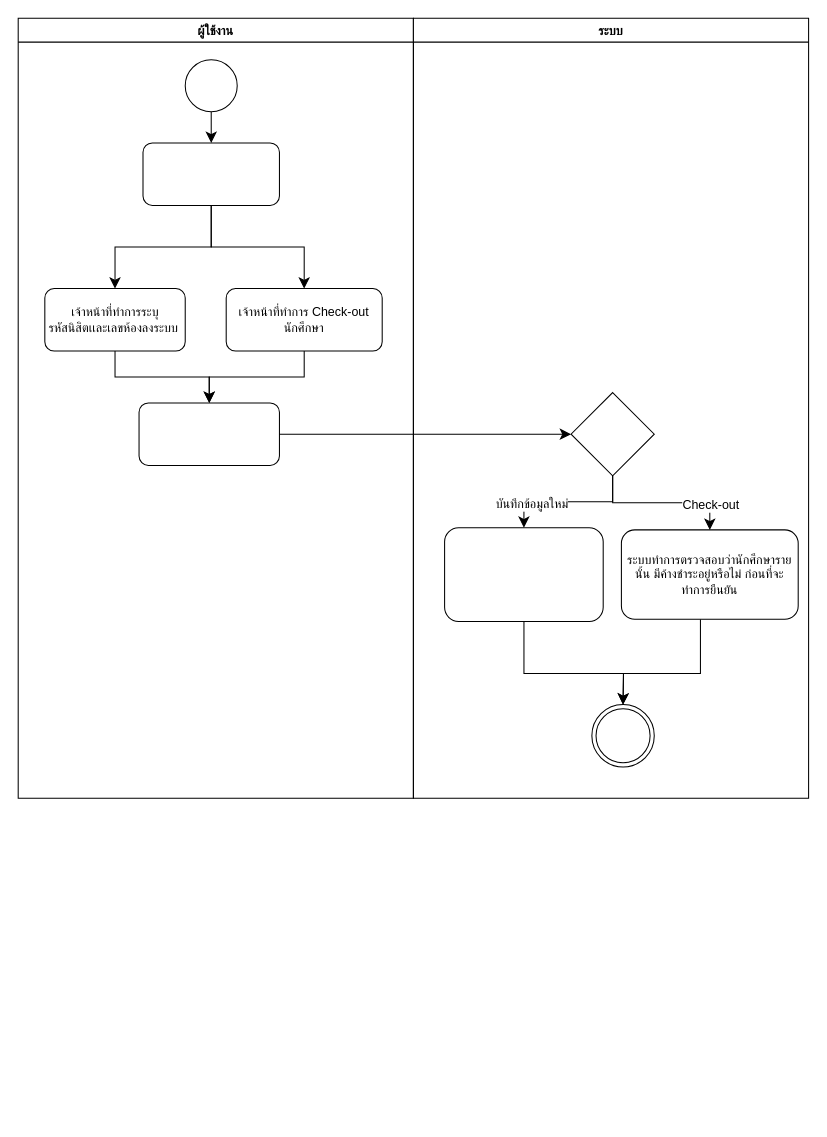
The diagram is 827 pixels wide and 1137 high, and some of its shapes have lost their labels. The shapes that lost their labels are listed below. From the top down, each one's centre as x and y in pixels, then its label:
(x=210, y=173): เจ้าหน้าที่ตรวจเช็ค นักศึกษาใหม่ที่ย้ายเข้ามา
(x=208, y=433): กดปุ่ม "บันทึก"
(x=523, y=574): ระบบทำการเปลี่ยนสถานะของห้องนั้น จาก "ว่าง" เป็น " ไม่ว่าง" ทันที
